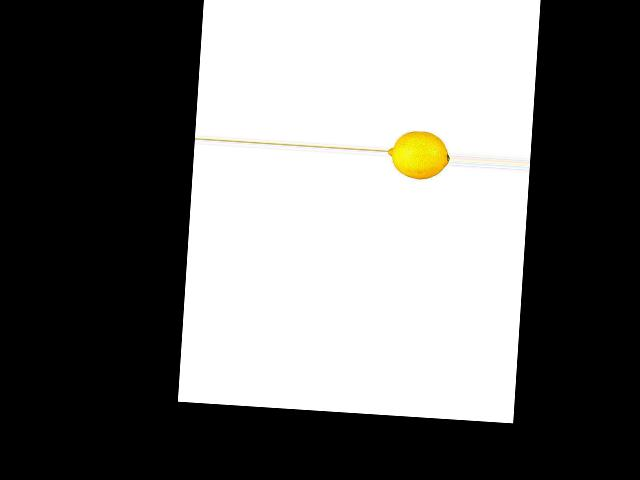lemon: (387, 129, 450, 181)
